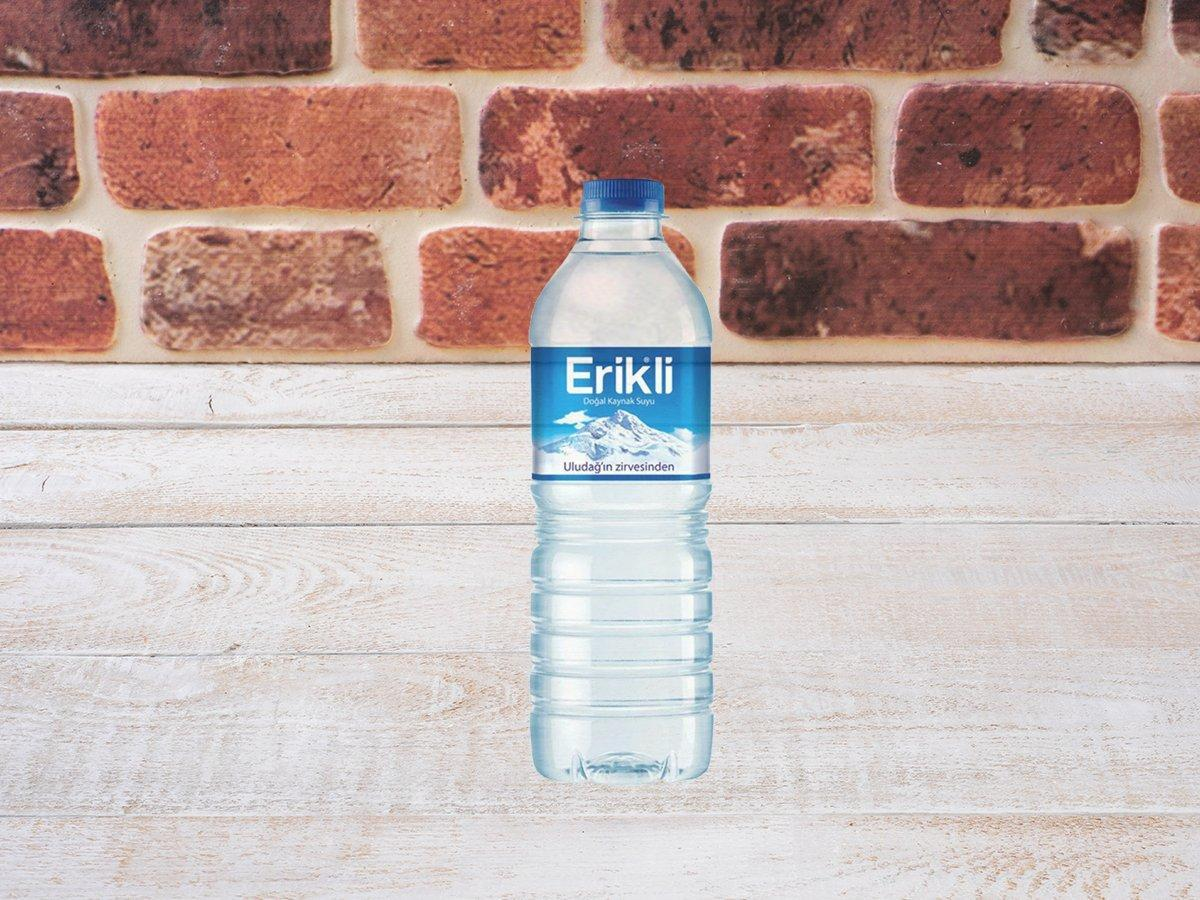bottle: (501, 160, 743, 807)
